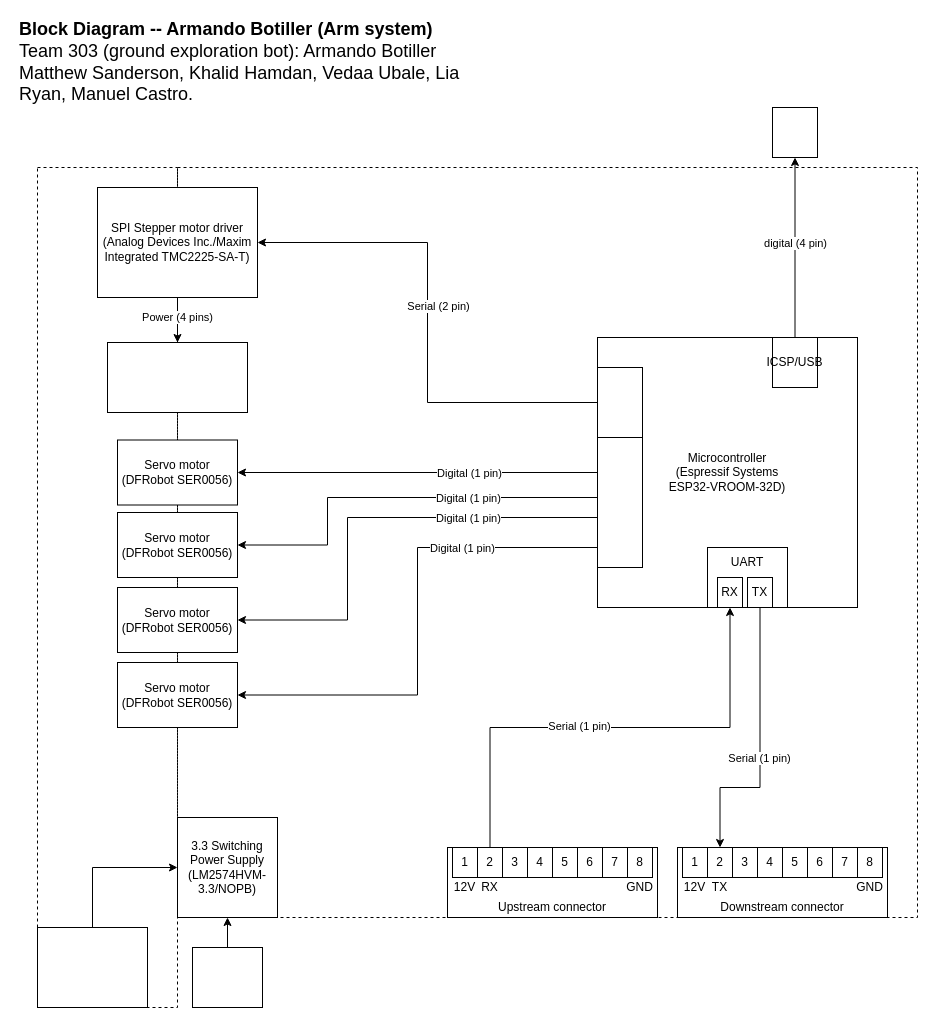
The diagram is 935 pixels wide and 1025 high, and some of its shapes have lost their labels. Here are the shapes that lost their labels. From the top down, the centre of each, then its label:
pixel 795 132: PC
pixel 177 377: Stepper motor ( Olimex LTD SM-42HB34F08AB )
pixel 619 402: SPI
pixel 619 502: GPIO
pixel 92 967: 12V Battery ( BatteryGuy BGN5500-10EWP-A800EC )
pixel 227 977: Barrel Jack Adapter
